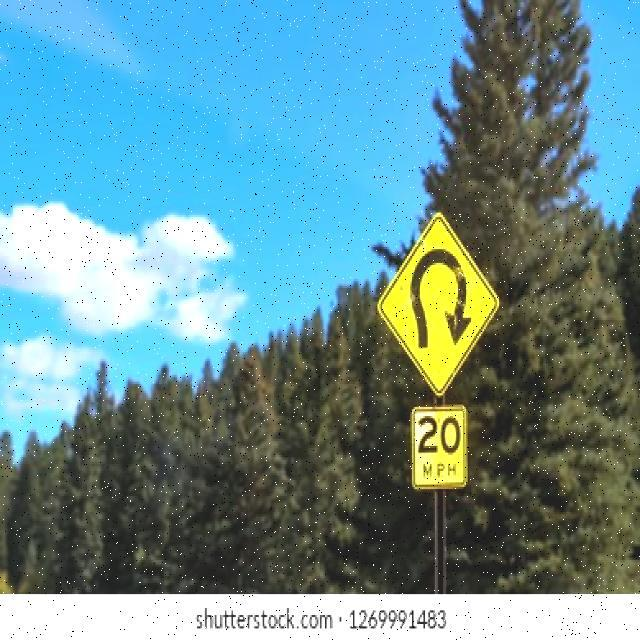Traffic sign: (370, 204, 505, 493)
